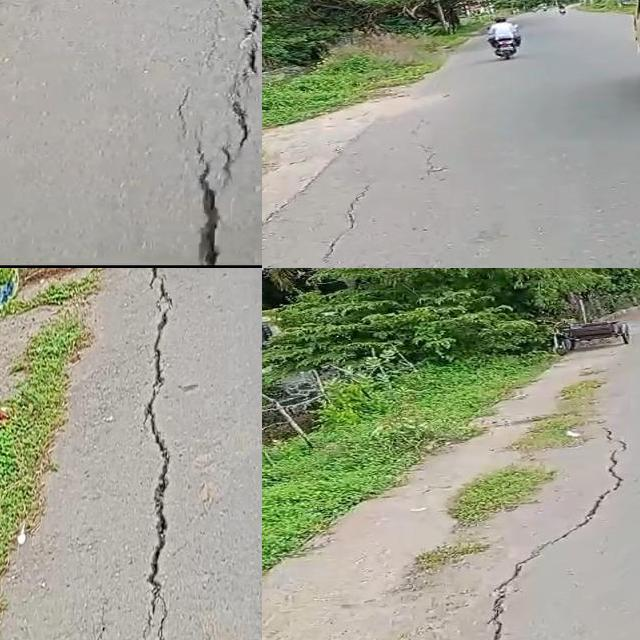Memanjang: (471, 415, 637, 640), (178, 0, 262, 268), (131, 268, 187, 640)
